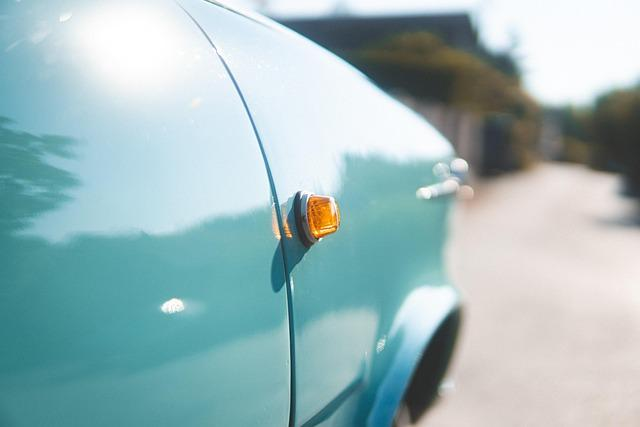Non_Gorille: (4, 0, 638, 427)
